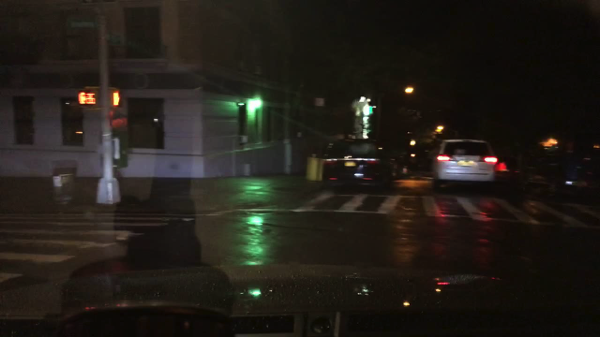car: (493, 134, 599, 196), (321, 138, 399, 192), (429, 137, 498, 193), (396, 157, 415, 176)
traffic light: (76, 85, 99, 107), (110, 87, 124, 109), (251, 95, 263, 109), (368, 106, 374, 117)
